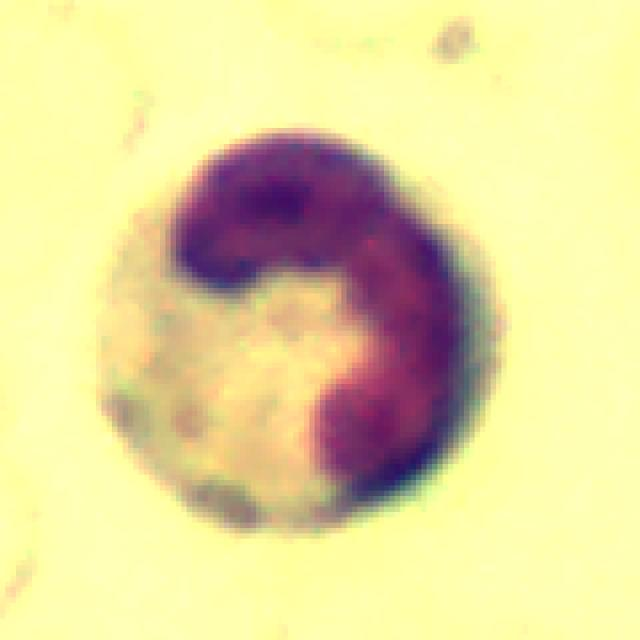WBC: (59, 112, 528, 565)
